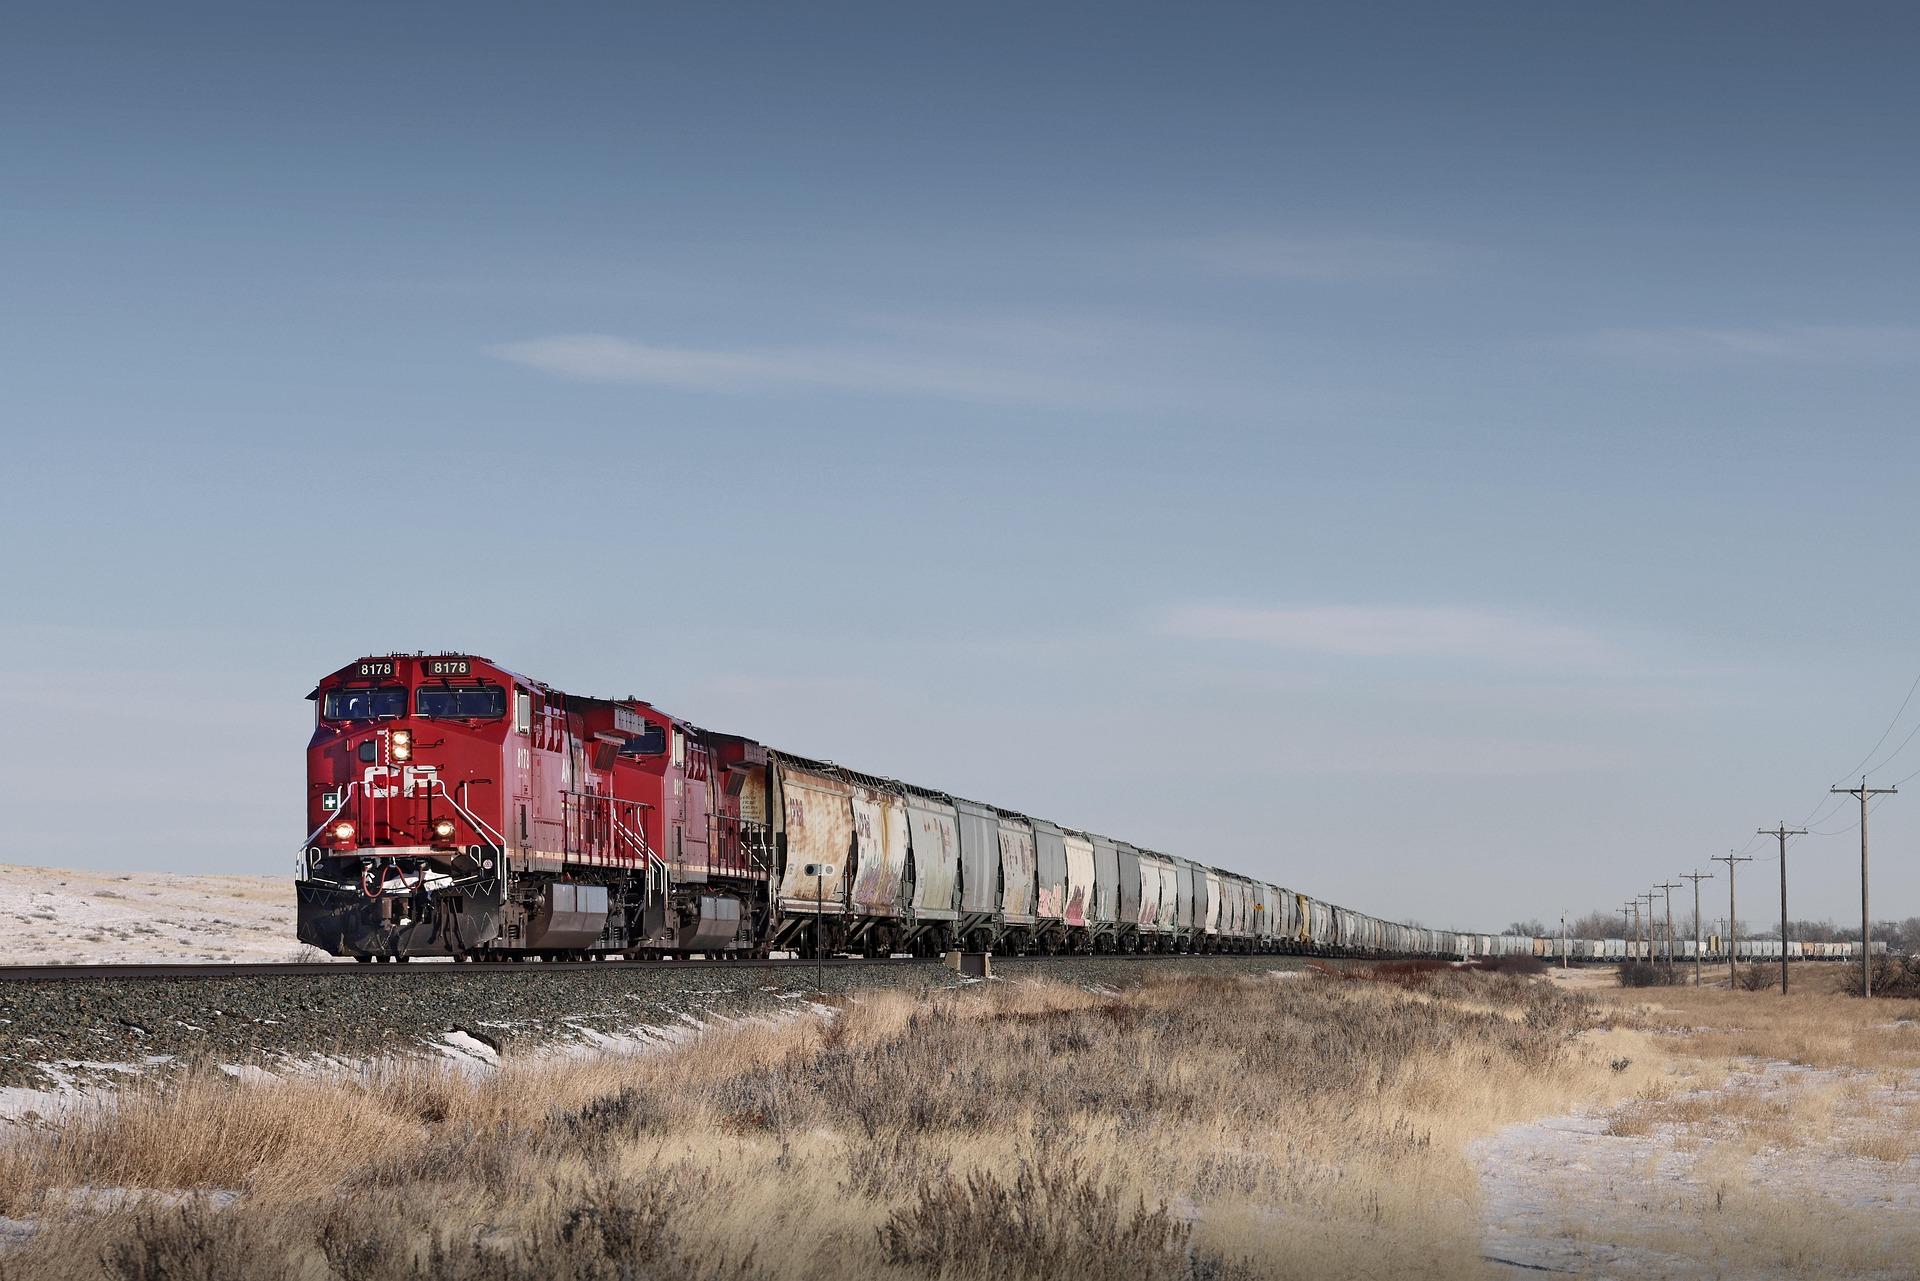train1: (279, 642, 1910, 965)
